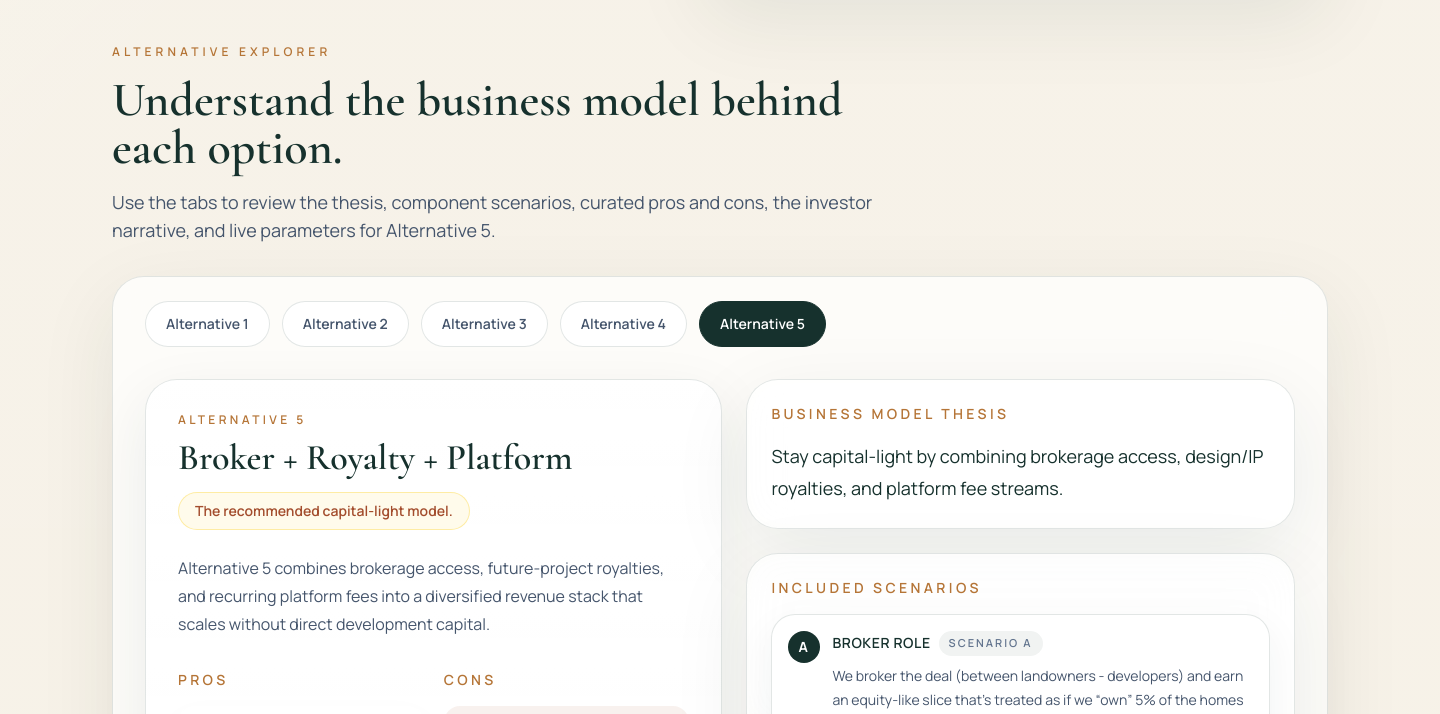
Scenario: App › switches the alternative explorer content when a tab is selected
(page scrolled)
Click the button "Alternative 3".
click(484, 324)  # box [421, 301, 548, 347]
(page scrolled)
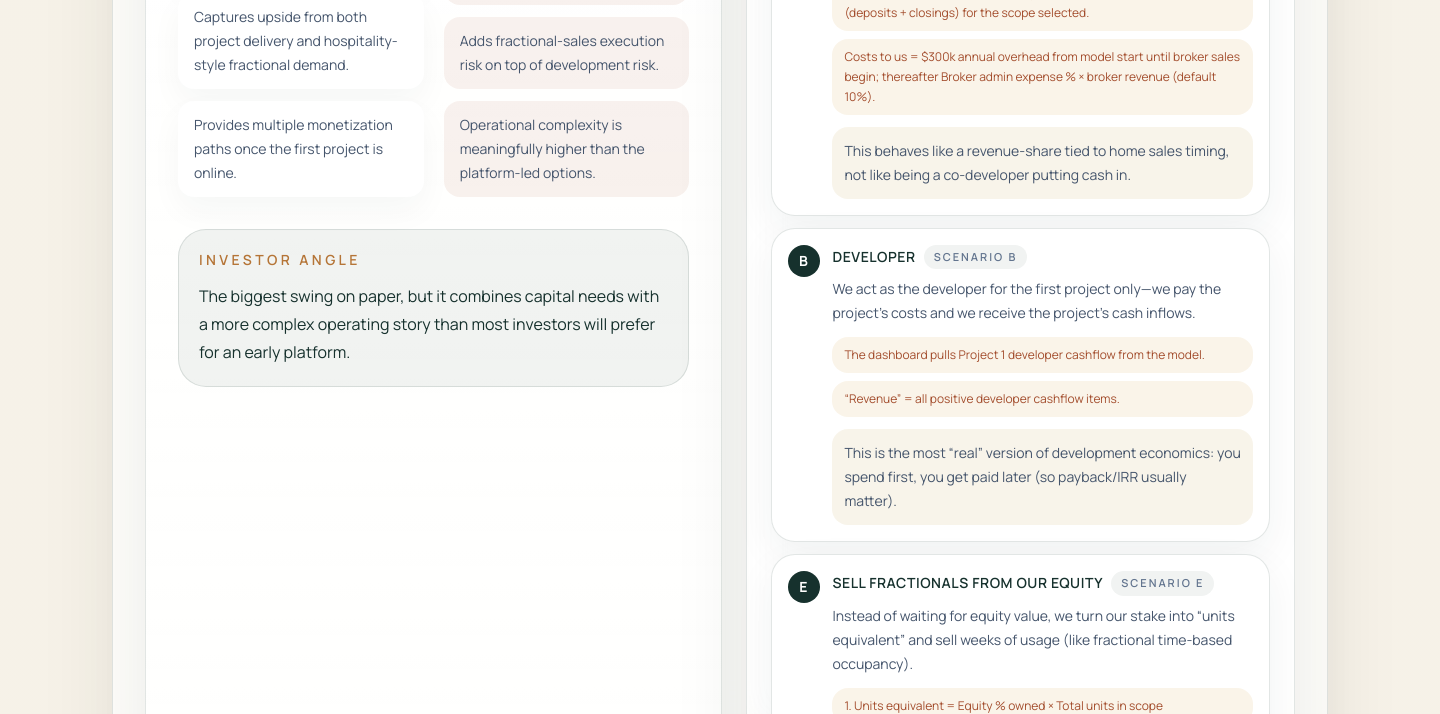
Expected: the text "The biggest swing on paper" is shown, [199, 285, 659, 363]
